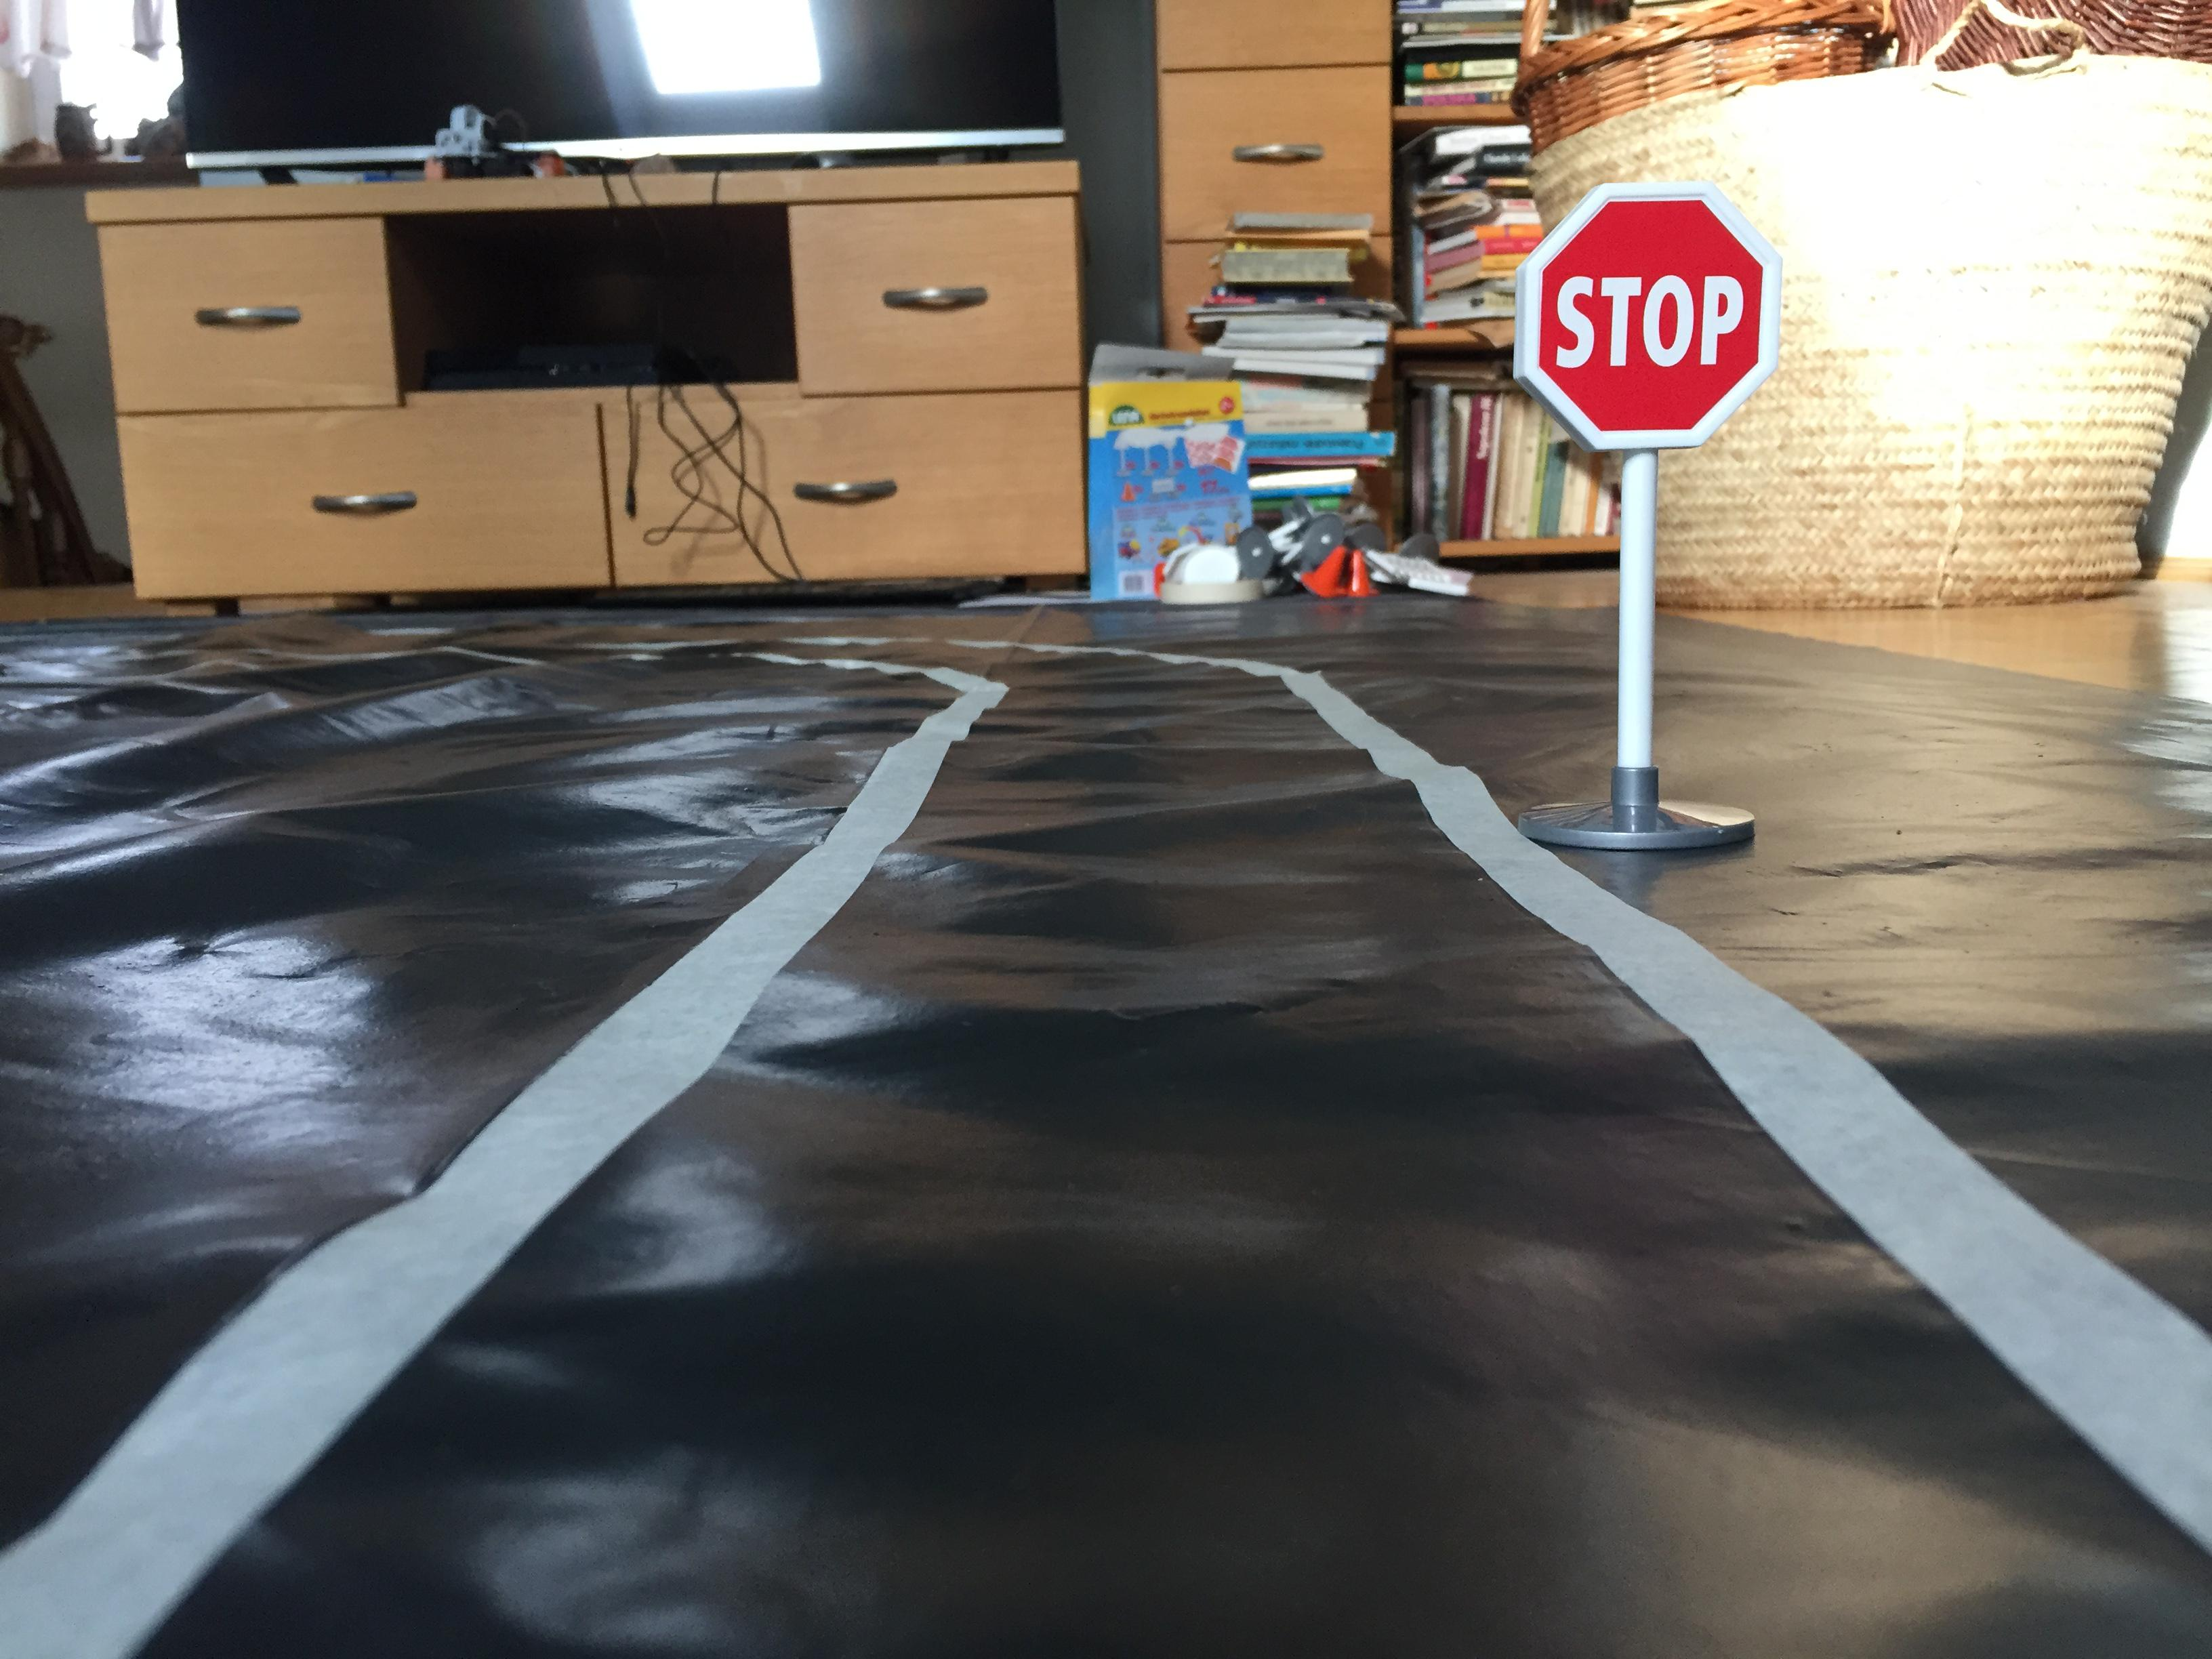stop: (1508, 176, 1784, 462)
